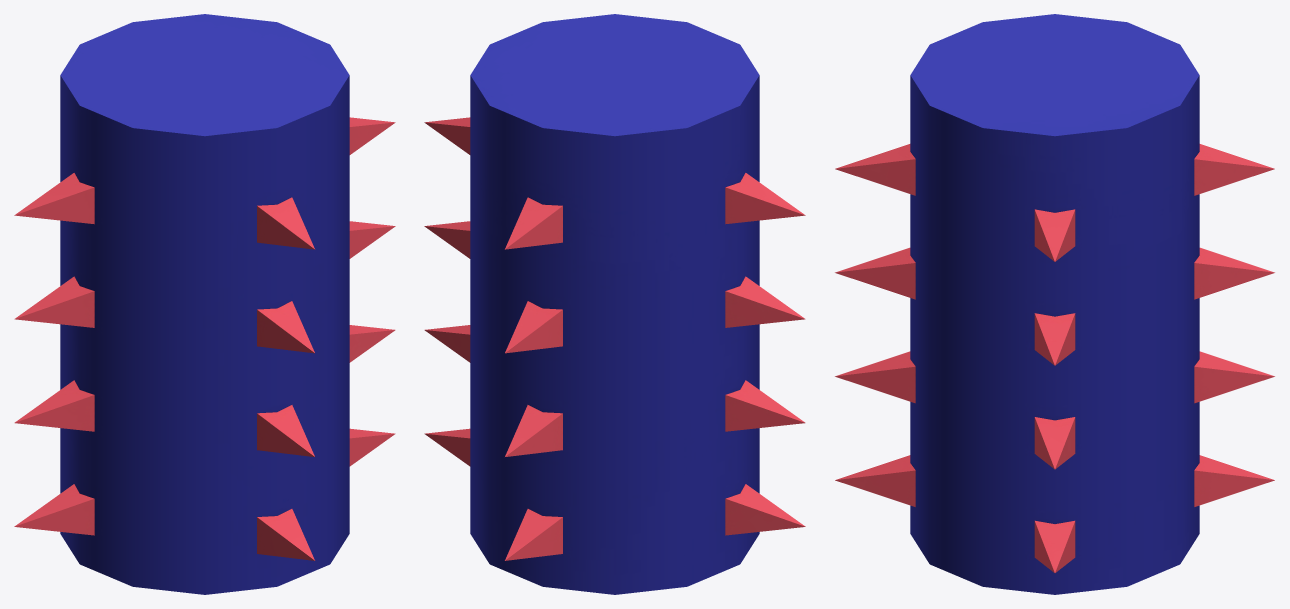
Rendered from Runer_1.FBX.
The picture shows the model from 3 angles, left to right: view 1: azimuth 30°, elevation 25°; view 2: azimuth 150°, elevation 25°; view 3: azimuth 270°, elevation 25°; orthographic projection.
Parts seen in each view (by area): view 1: Runer_1; view 2: Runer_1; view 3: Runer_1.
Part boxes in pixels (bbox=[...]): Runer_1: bbox=[14, 14, 395, 594]; Runer_1: bbox=[424, 14, 805, 594]; Runer_1: bbox=[835, 14, 1274, 594].
Size of the model in its own units: 3.05 by 3.5 by 3.05.
